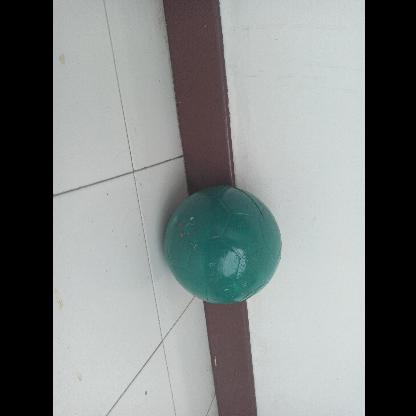green_ball: (164, 184, 284, 302)
